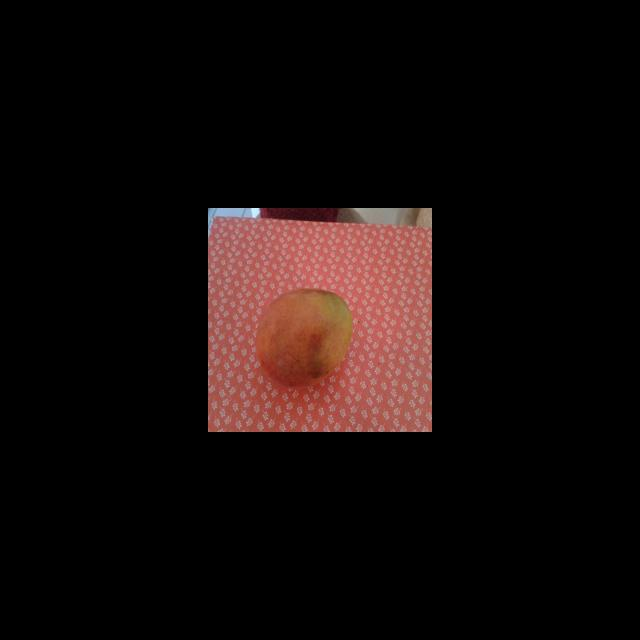Mango: (255, 287, 353, 387)
